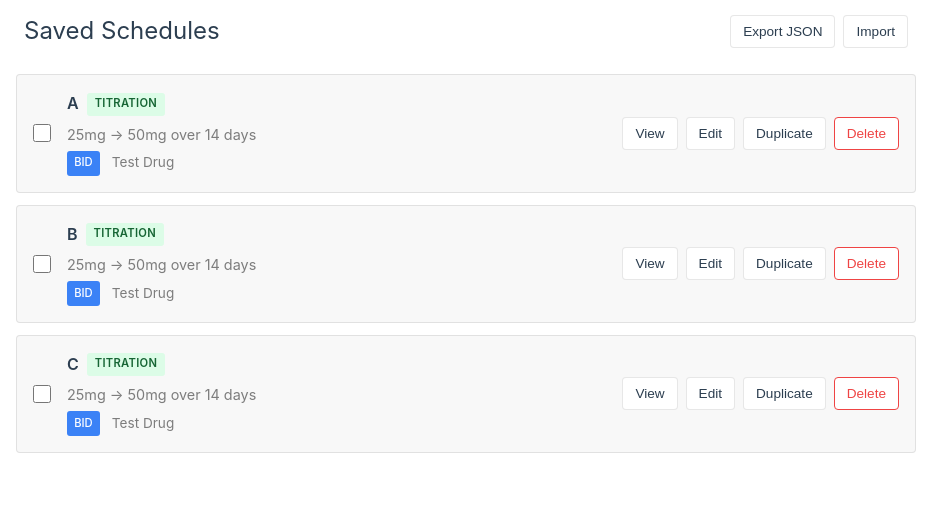
Test: ScheduleList › compare selection › shows count of selected schedules on compare button
Click the 1st checkbox with class "compare-checkbox".
click(42, 134)  # box [33,124,51,142]
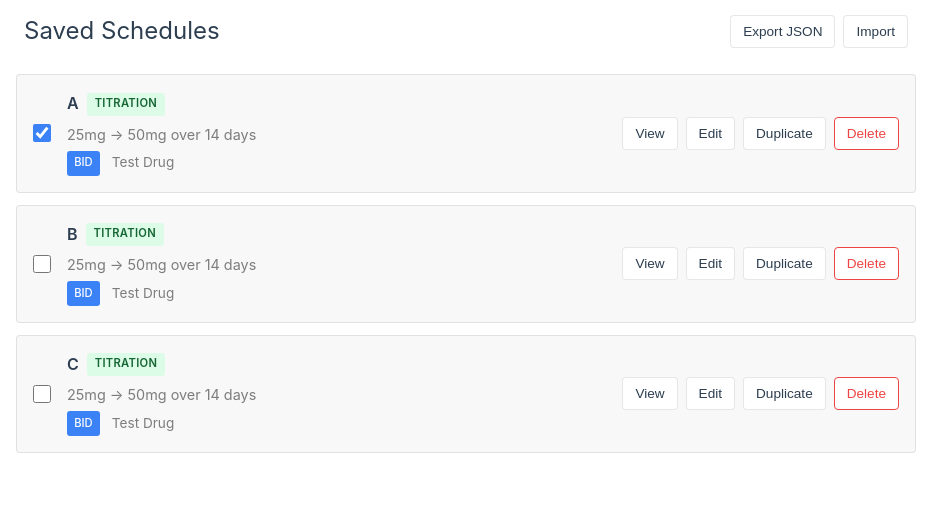
Click the 2nd checkbox with class "compare-checkbox".
click(42, 264)  # box [33,255,51,273]
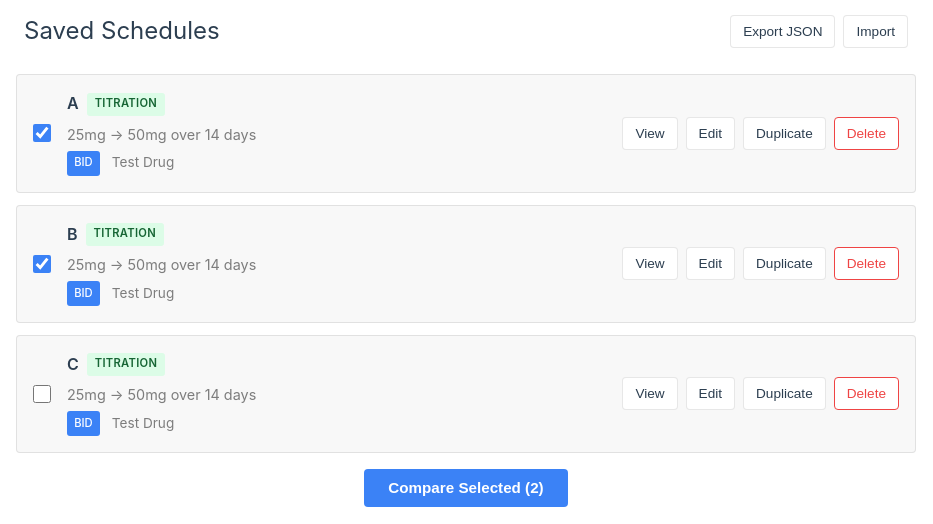
Click the 3rd checkbox with class "compare-checkbox".
click(42, 394)  # box [33,385,51,403]
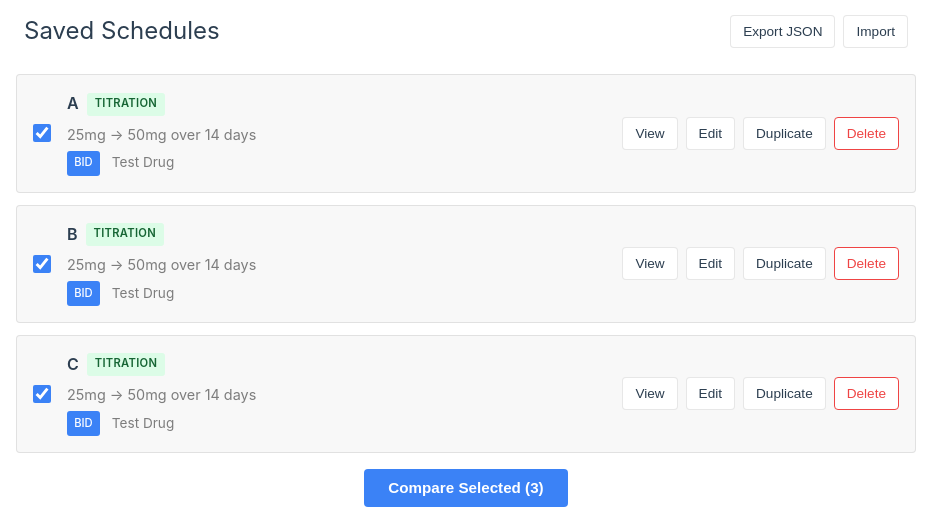
Now the button with test id "compare-btn" shows "3", box [364,469,568,507]
